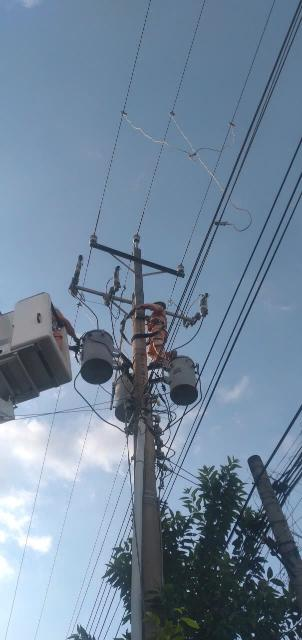gloves: (128, 305, 140, 317), (69, 343, 81, 353), (74, 337, 82, 344)
harness: (150, 319, 168, 328)
helmet: (152, 298, 171, 310)
